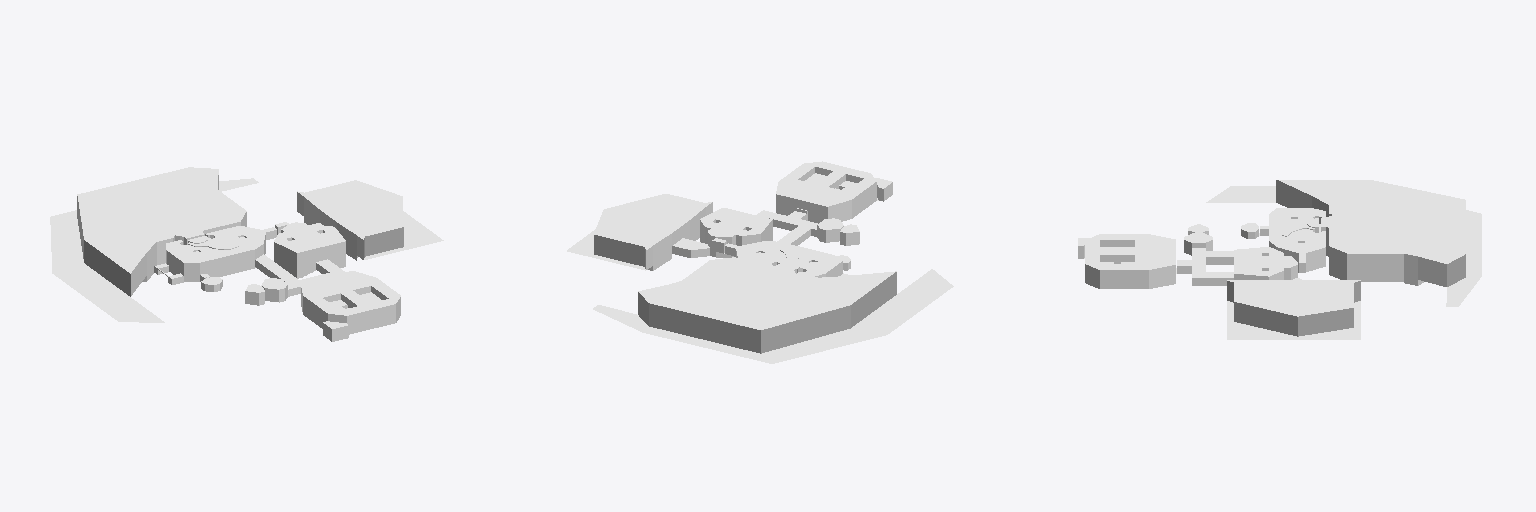
The model's file is doom2_MAP01.obj.
3 views of the same model, side by side, from view 1: azimuth 30°, elevation 25°; view 2: azimuth 150°, elevation 25°; view 3: azimuth 270°, elevation 25° (orthographic).
Visible parts, largest first — view 1: MAP01; view 2: MAP01; view 3: MAP01.
Part boxes in pixels (x1,y1,x2,y2): MAP01: (50,167,443,341); MAP01: (567,161,953,363); MAP01: (1078,180,1481,339).
Bounding box in the file's own units: 3376 × 304 × 3648.